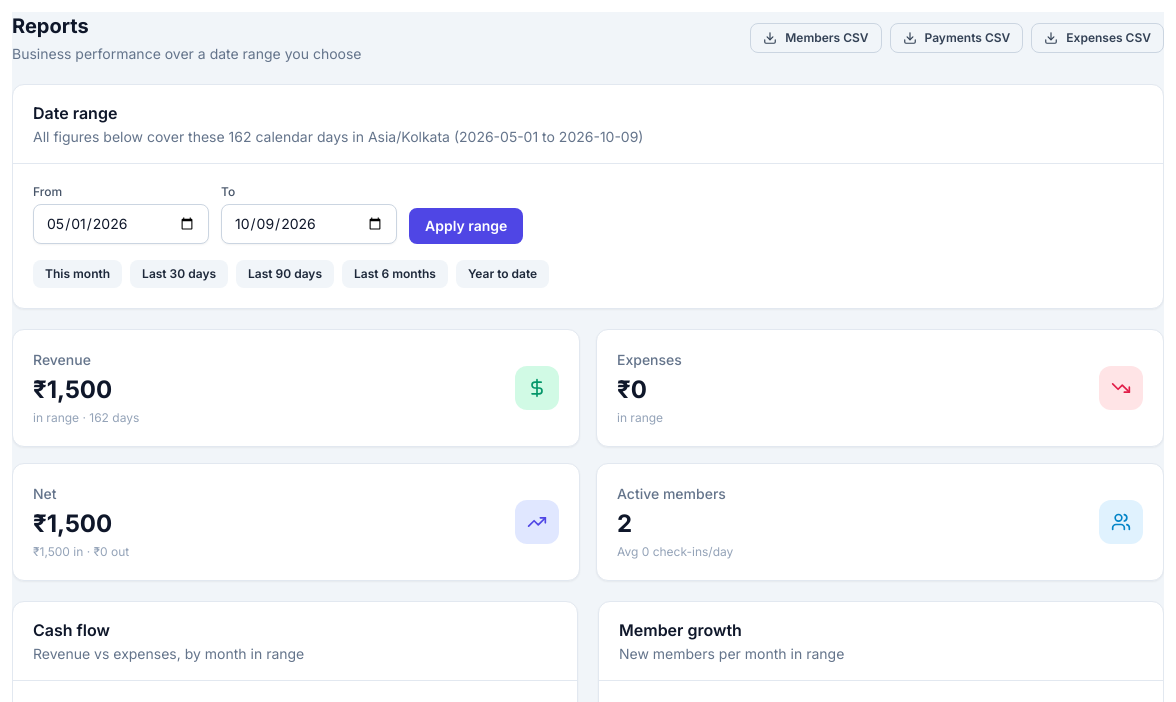
Reports date range › rejects a reversed range and keeps the previous figures
Check: the heading "Date range" is shown, box [33, 103, 117, 123]
Type "2026-01-01" into the date field labelled "From" at (121, 224), box [33, 204, 209, 244]
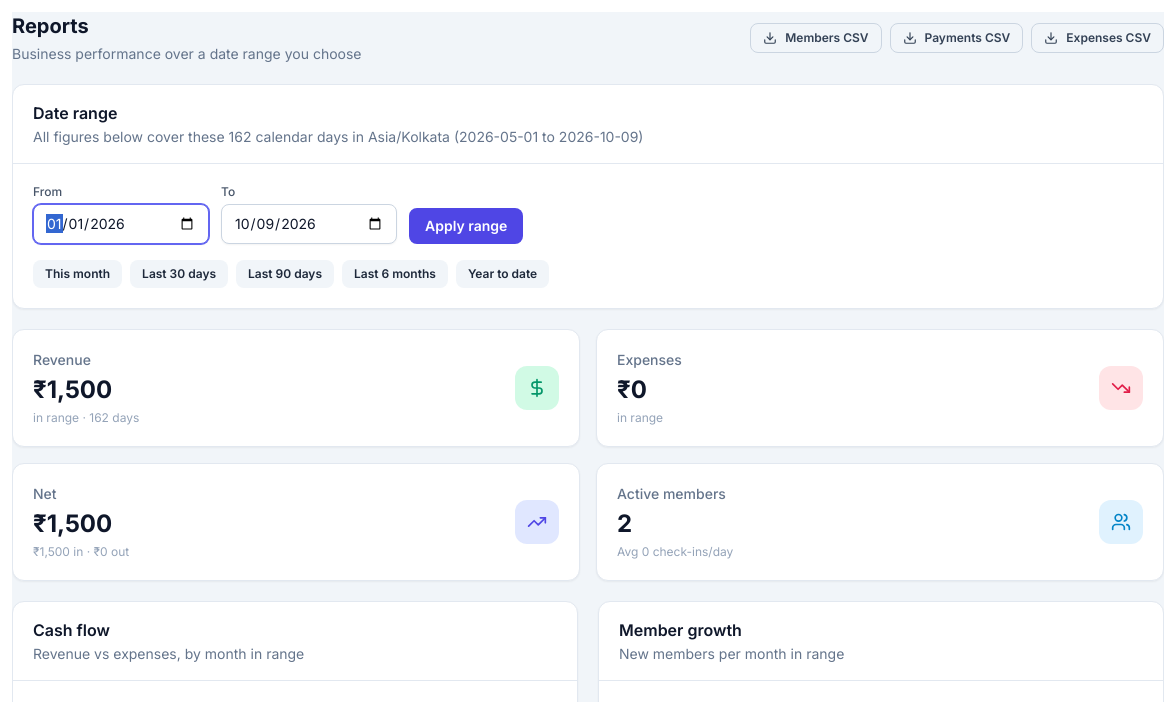
Type "2026-01-31" into the date field labelled "To" at (309, 224), box [221, 204, 397, 244]
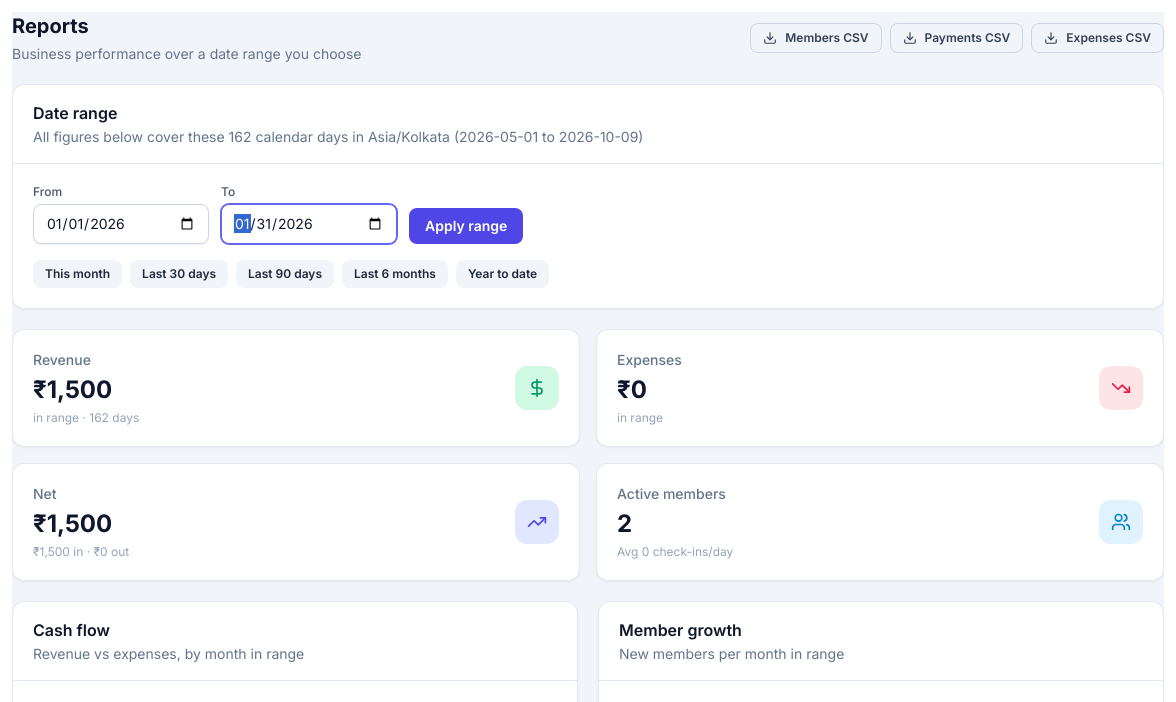
Click the button "Apply range" at (466, 226), box [409, 208, 523, 244]
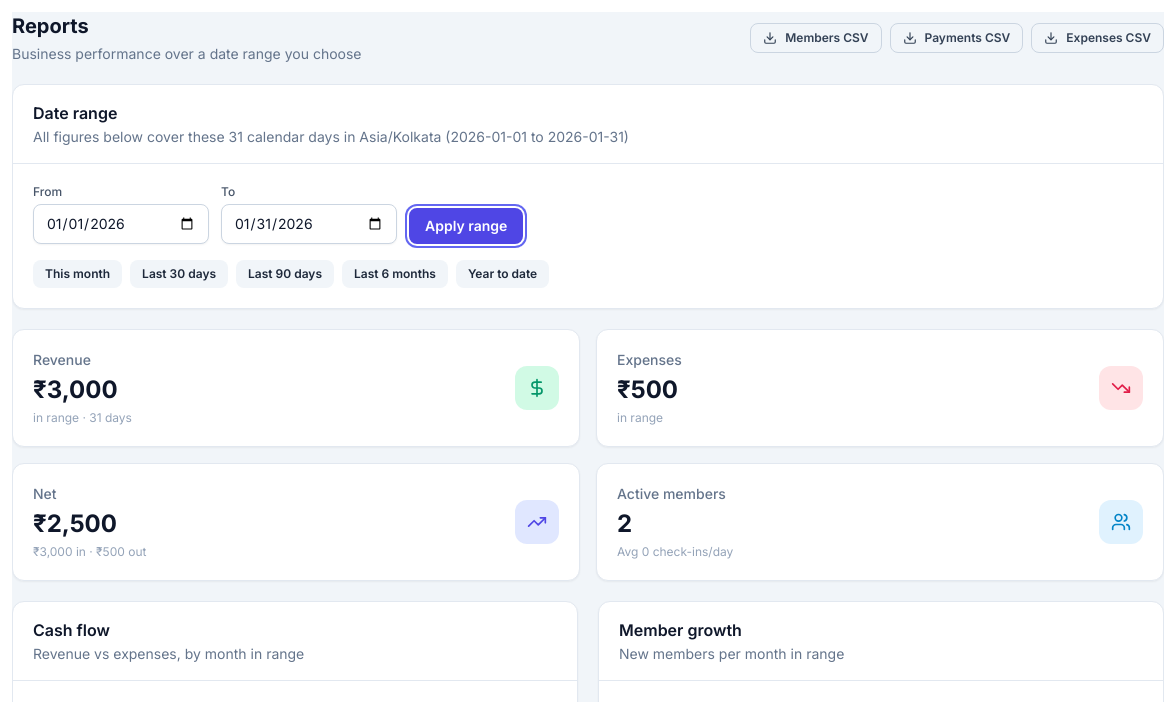
Check: the text "31 calendar days" is shown, box [33, 128, 629, 145]
Type "2026-06-01" into the date field labelled "From" at (121, 224), box [33, 204, 209, 244]
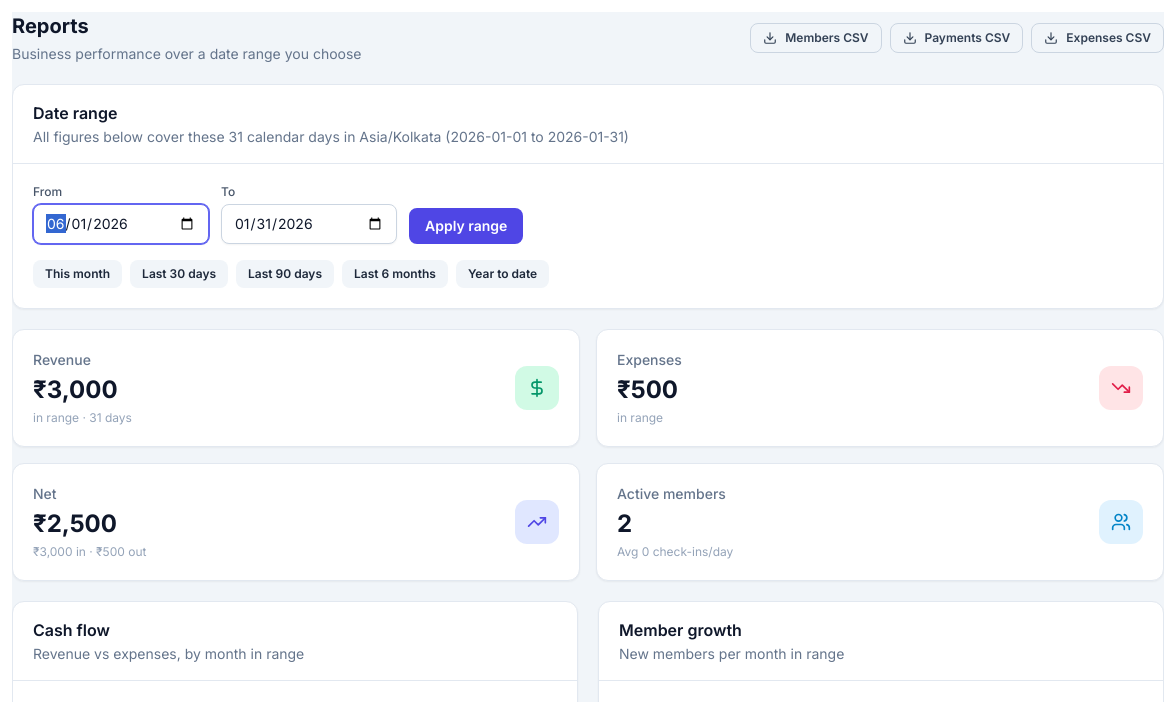
Type "2026-01-01" into the date field labelled "To" at (309, 224), box [221, 204, 397, 244]
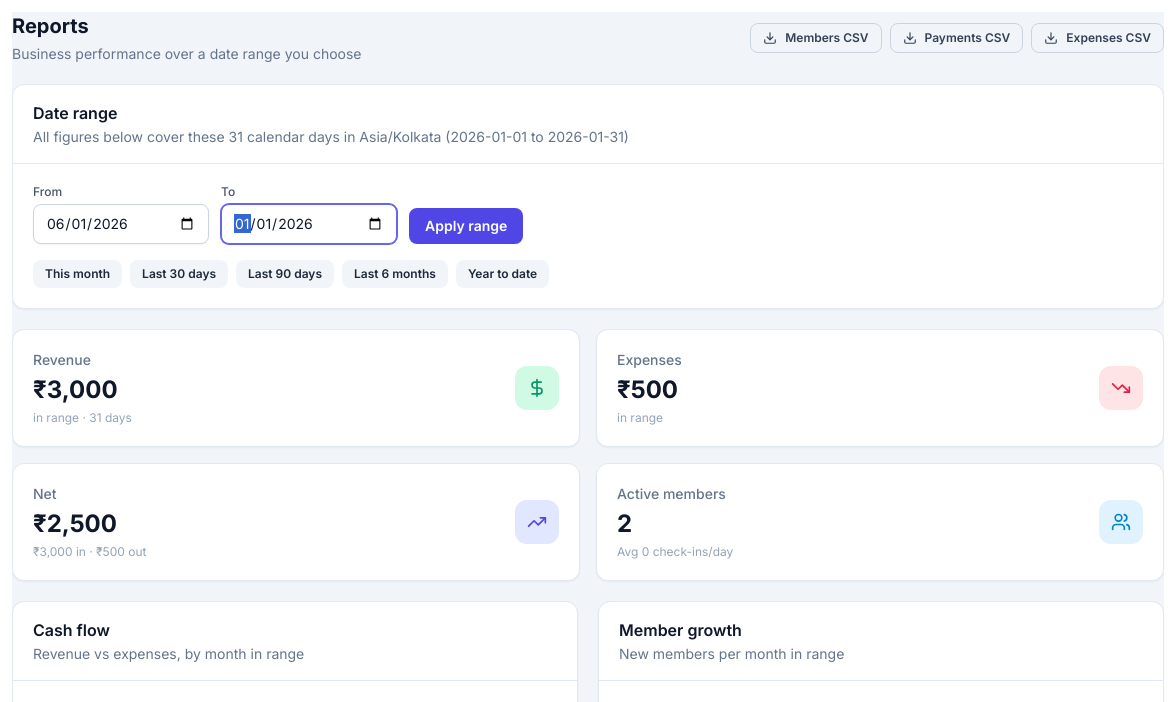
Click the button "Apply range" at (466, 226), box [409, 208, 523, 244]
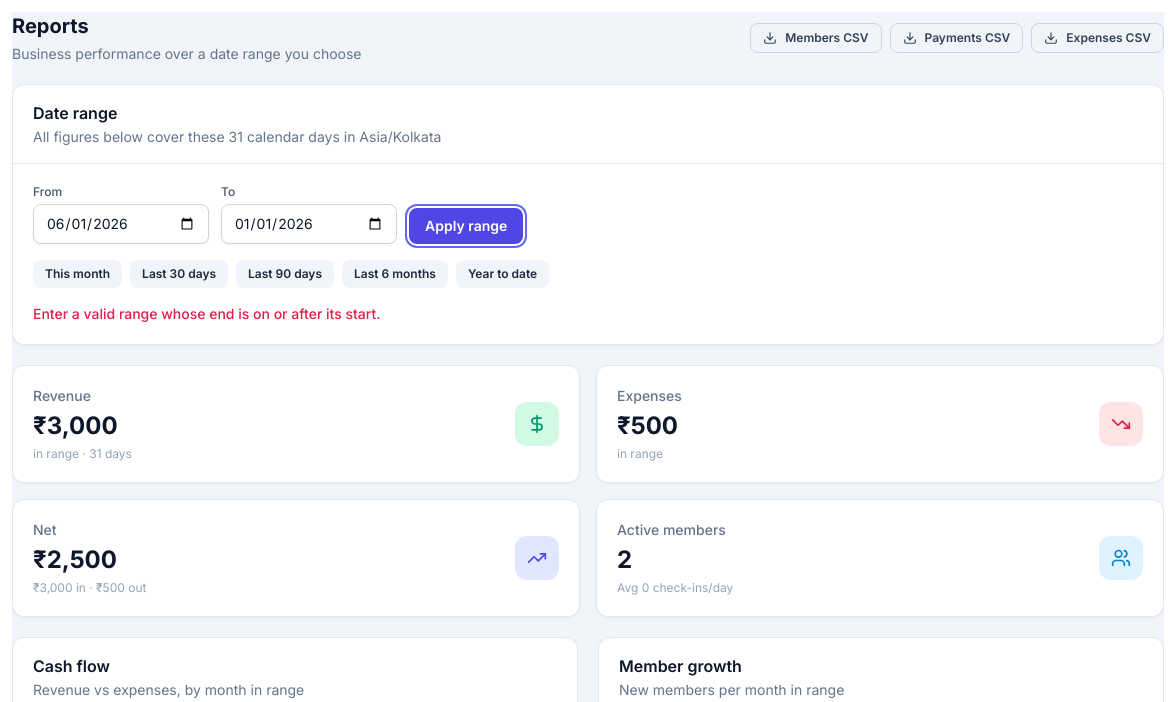
Check: the text "31 calendar days" is shown, box [33, 128, 441, 145]
Check: the message shows "end is on or after its start", box [33, 305, 380, 322]
